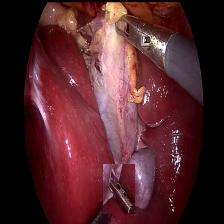Grasper: (110, 4, 150, 64), (102, 163, 134, 213)
